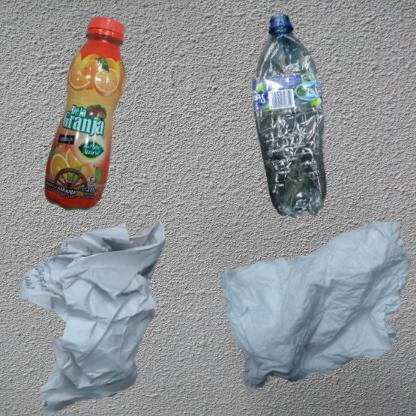botella: (10, 10, 216, 287), (213, 10, 400, 262)
papel: (213, 213, 416, 406), (10, 213, 191, 416)
